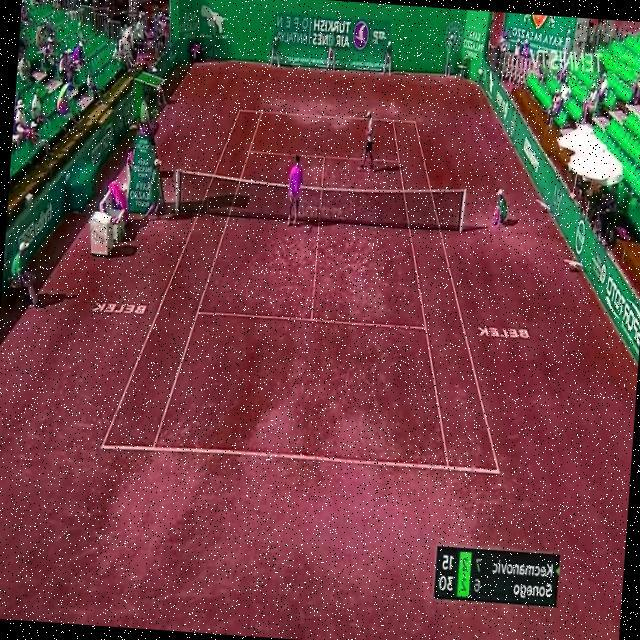court: (98, 100, 524, 480)
net: (170, 166, 467, 234)
player: (285, 152, 305, 228)
